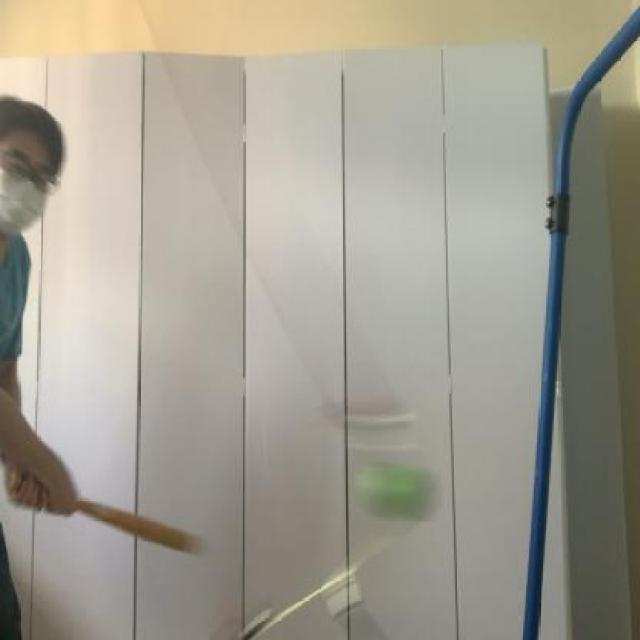baseball: (347, 442, 451, 535)
